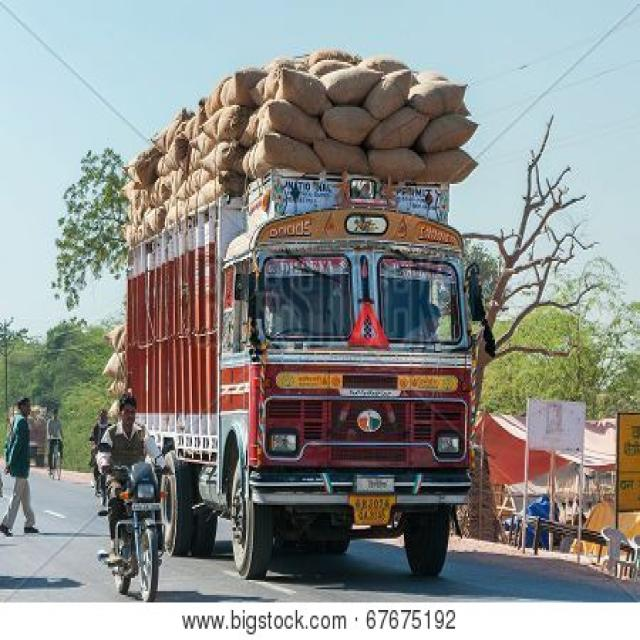truck: (125, 49, 481, 576)
